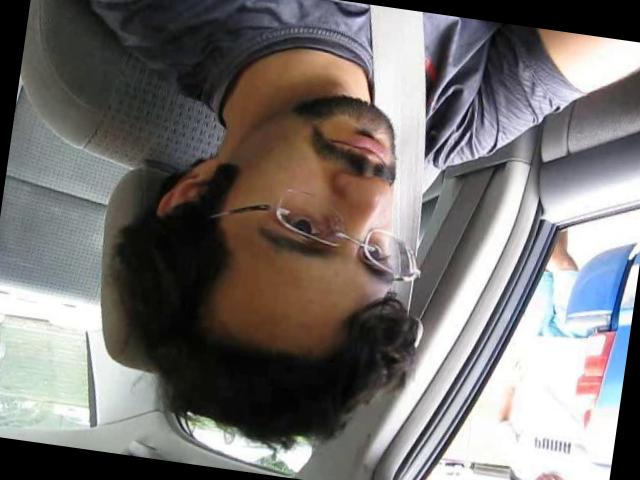eye_open: (272, 203, 324, 246), (358, 237, 396, 271)
face: (212, 76, 428, 302)
